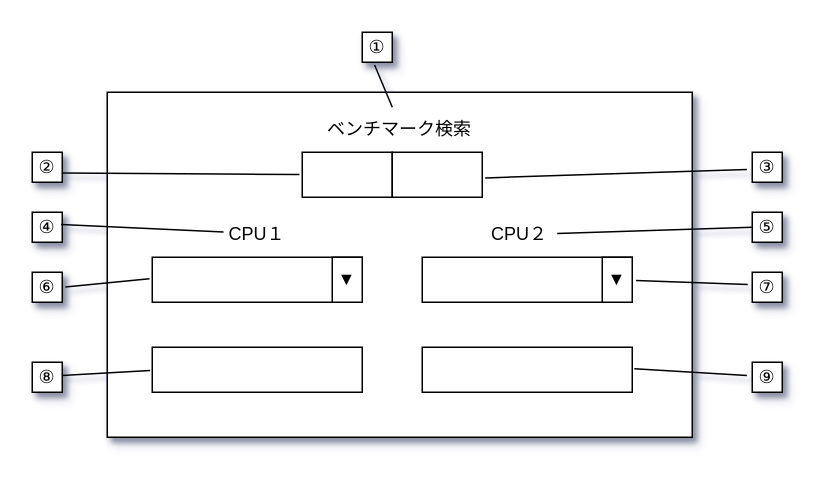
This 827x483 diagram has some shape labels left out. The centre of each missing label's shape, as x and y in pixels:
CPU: (x=346, y=174)
GPU: (x=436, y=174)
